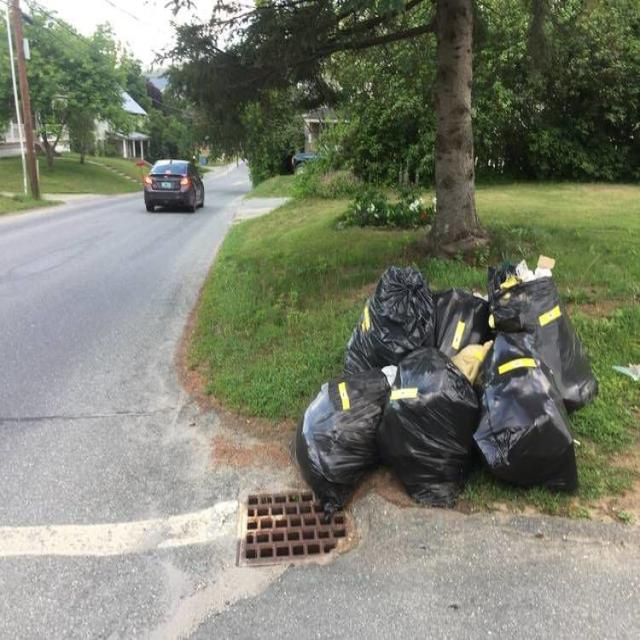dumping: (290, 240, 602, 506)
